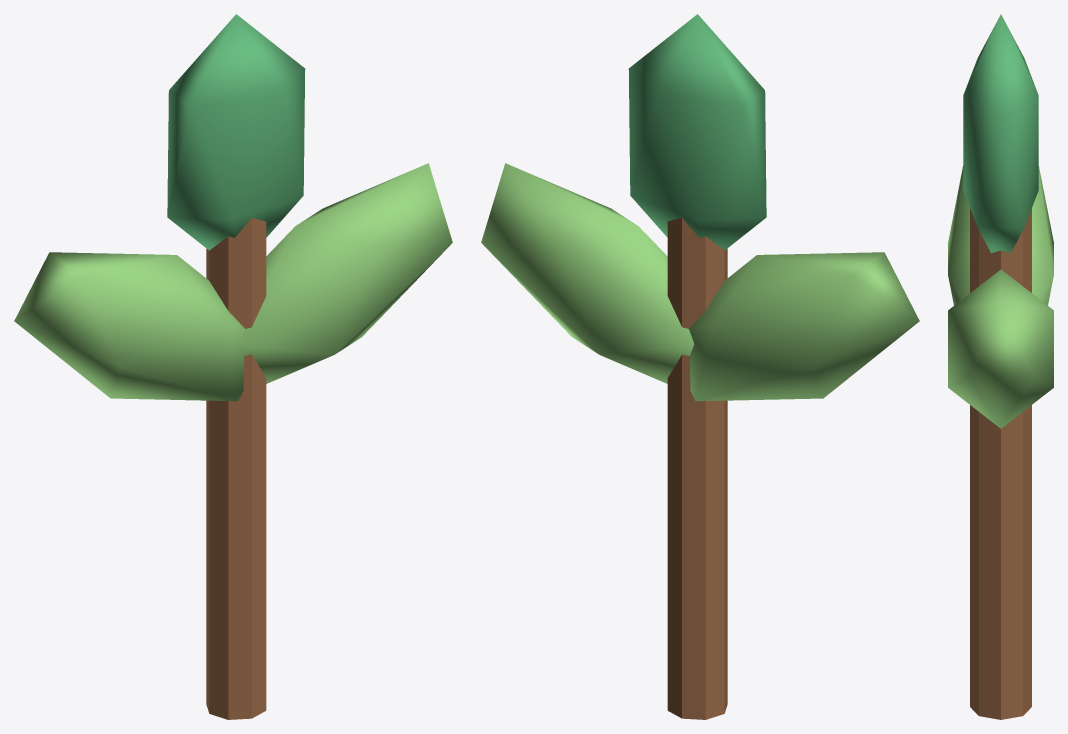
File: sapling.glb
3 renders of one model, left to right at view 1: azimuth 30°, elevation 25°; view 2: azimuth 150°, elevation 25°; view 3: azimuth 270°, elevation 25°, orthographic.
Parts seen in each view (by area): view 1: Young leaves, New leaf, Young stem, Young leaves.001; view 2: Young leaves, New leaf, Young stem, Young leaves.001; view 3: Young stem, New leaf, Young leaves.001, Young leaves.
Boxes of the visible parts, x1,y1,x2,y2 form: Young leaves: [14, 252, 244, 401]; New leaf: [167, 14, 305, 250]; Young stem: [206, 218, 266, 719]; Young leaves.001: [239, 163, 452, 383]; Young leaves: [689, 252, 919, 401]; New leaf: [628, 14, 766, 250]; Young stem: [667, 218, 727, 719]; Young leaves.001: [481, 163, 694, 383]; Young stem: [970, 208, 1031, 719]; New leaf: [963, 14, 1038, 253]; Young leaves.001: [948, 269, 1053, 428]; Young leaves: [948, 165, 1053, 305].
Bounding box in the file's own units: 0.5484 × 0.86 × 0.1191.
